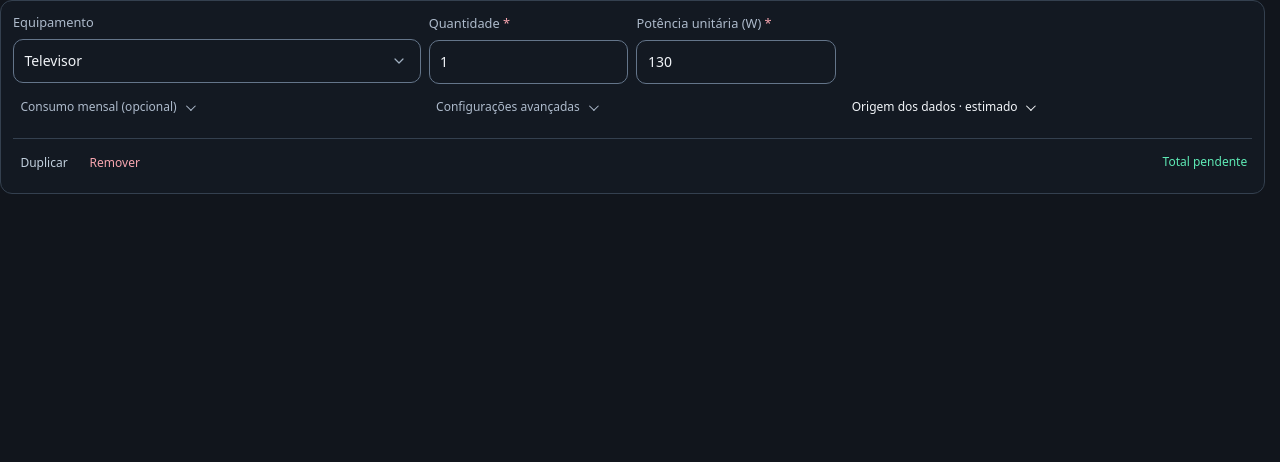
Scenario: normal equipment shows three essential controls; advanced fields and commercial metadata stay secondary
Expected: the number field labelled "Quantidade" is shown, [429,40,628,84]
Expected: the field labelled "Fator de potência" is not shown
Click the heading "Configurações avançadas" at (508, 107), box [436,98,580,116]
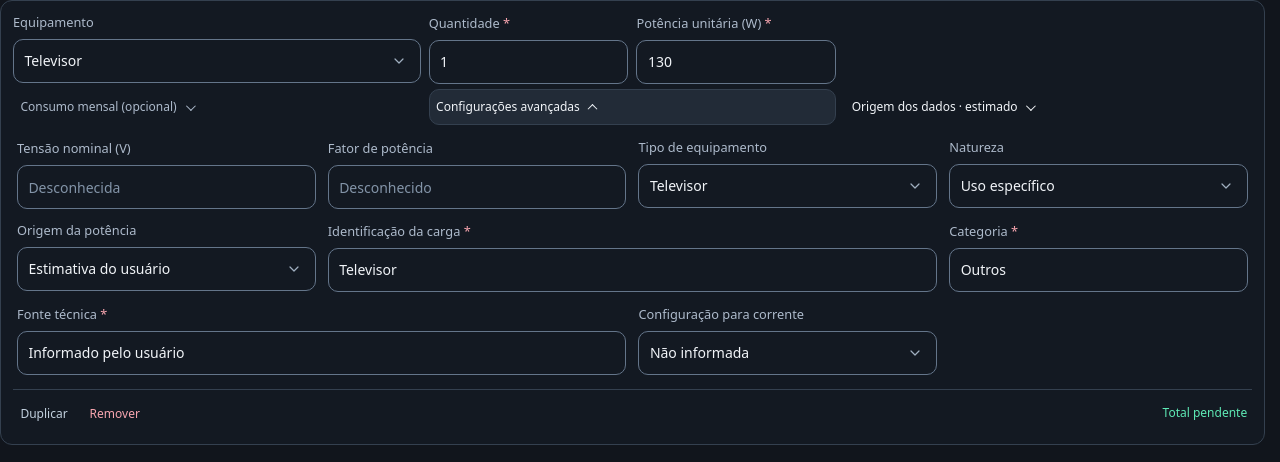
Expected: the number field labelled "Fator de potência" is shown
Type "0.8" into the number field labelled "Fator de potência" at (477, 187), box [328,165,626,209]
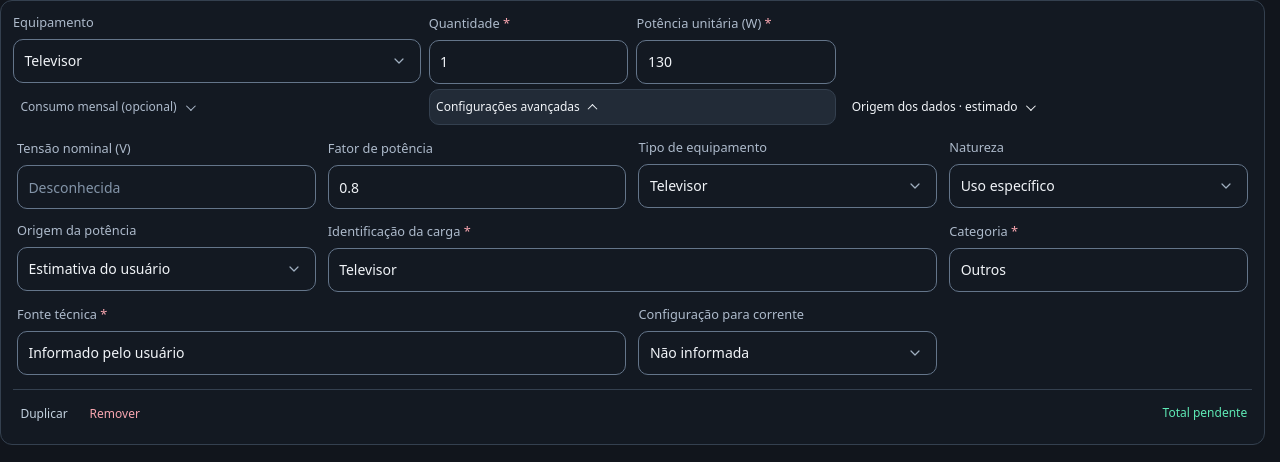
Click the heading "Configurações avançadas" at (508, 107), box [429,90,836,126]
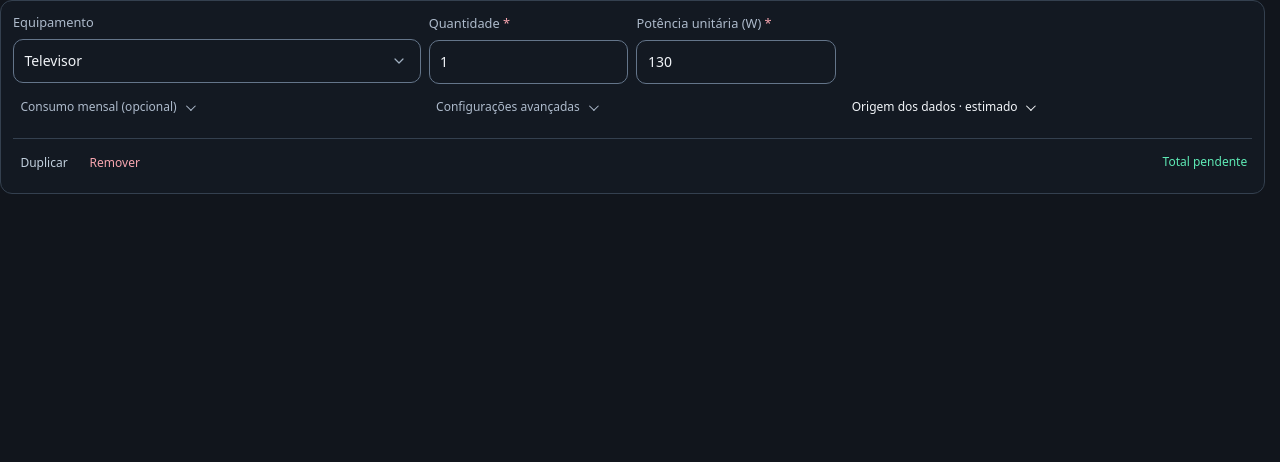
Expected: the text labelled "Fator de potência" is gone
Click the heading "Origem dos dados · estimado" at (935, 107), box [852,98,1018,116]
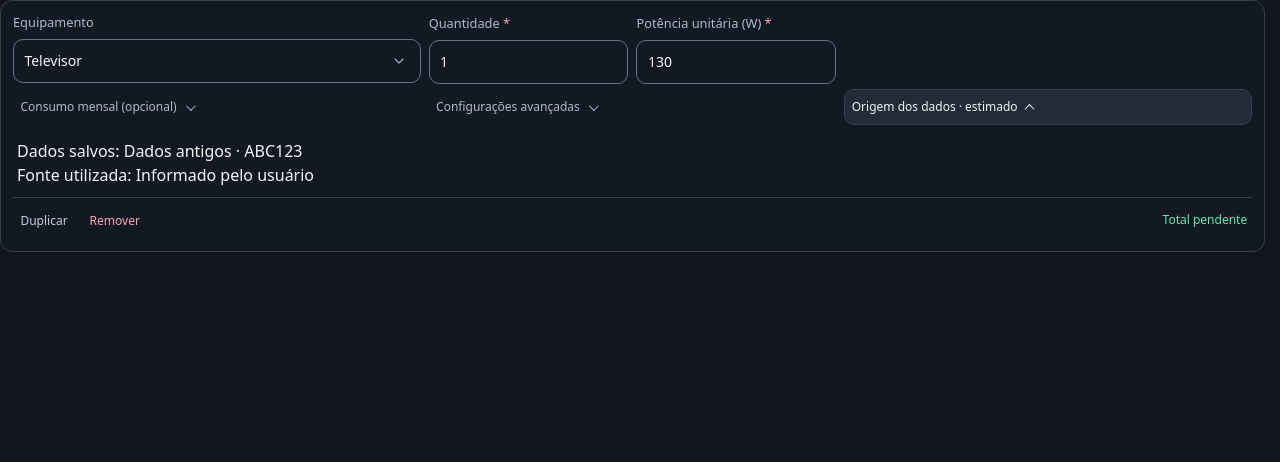
Expected: the text "Dados salvos: Dados antigos · ABC123" is shown, [17,140,302,162]
